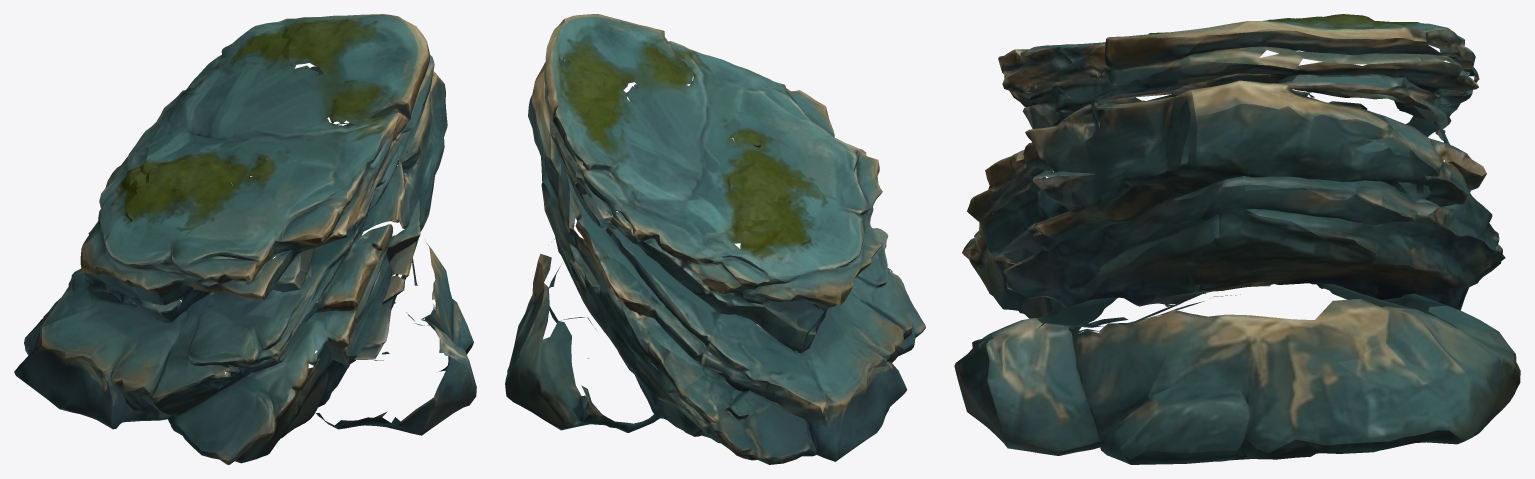
Rendered from gate-ledge-8354532.glb.
3 views of the same model, side by side, from view 1: azimuth 30°, elevation 25°; view 2: azimuth 150°, elevation 25°; view 3: azimuth 270°, elevation 25° (orthographic). The views are drawn at different scales.
Visible parts, largest first — view 1: Architecture_Aholo_8354532; view 2: Architecture_Aholo_8354532; view 3: Architecture_Aholo_8354532.
Boxes of the visible parts, left/top/right/bottom form: Architecture_Aholo_8354532: left=14, top=14, right=476, bottom=464; Architecture_Aholo_8354532: left=505, top=14, right=925, bottom=464; Architecture_Aholo_8354532: left=954, top=14, right=1520, bottom=464.
Bounding box in the file's own units: 1.2 × 1.04 × 1.19.
Materials: 1 (1 with a texture image).
